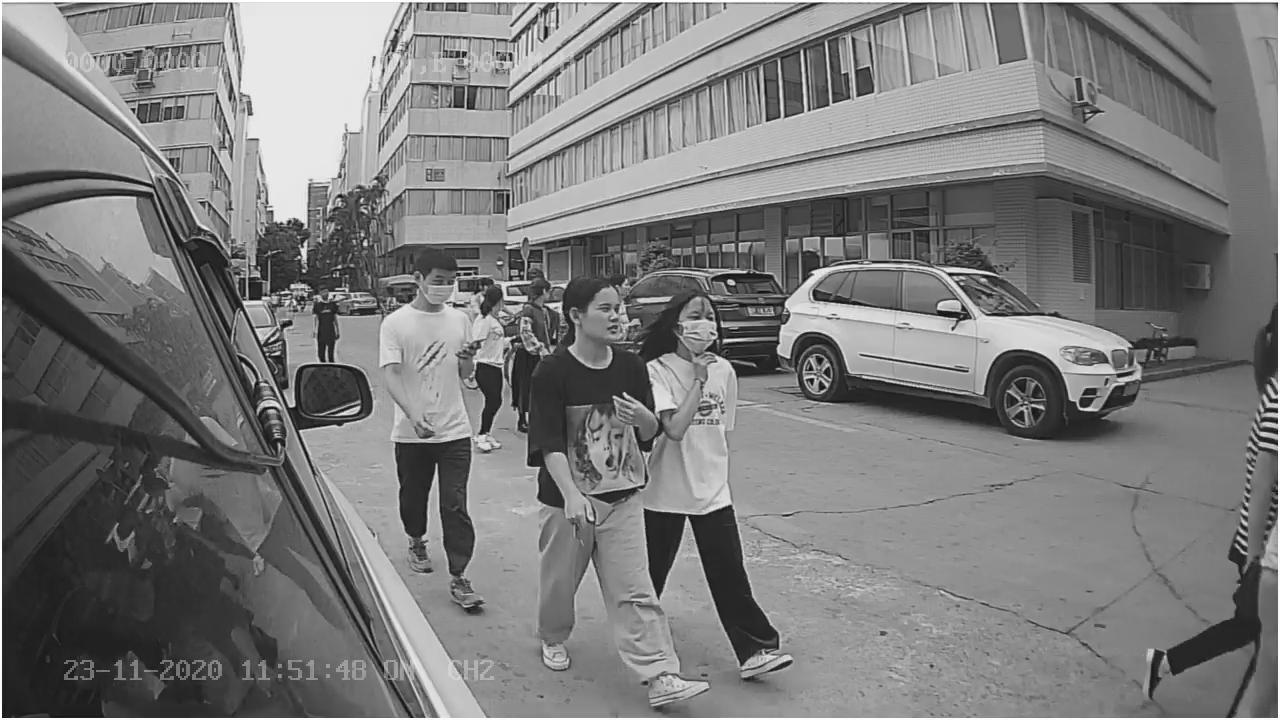person: (527, 277, 709, 693)
